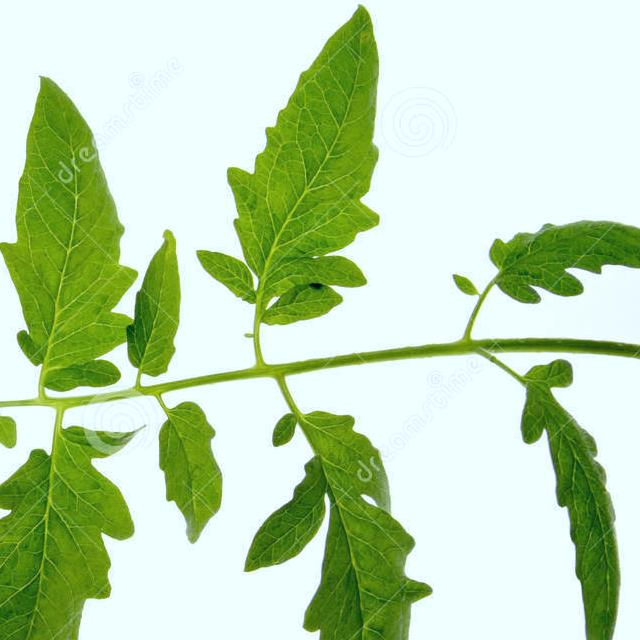Tomato leaf: (177, 0, 404, 350), (1, 30, 152, 412), (235, 384, 443, 640), (0, 401, 165, 640)
